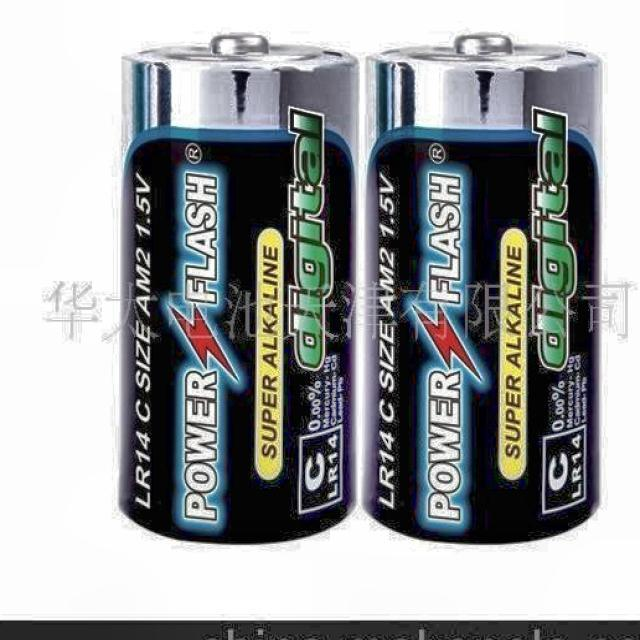battery: (364, 35, 600, 542), (120, 37, 356, 541)
